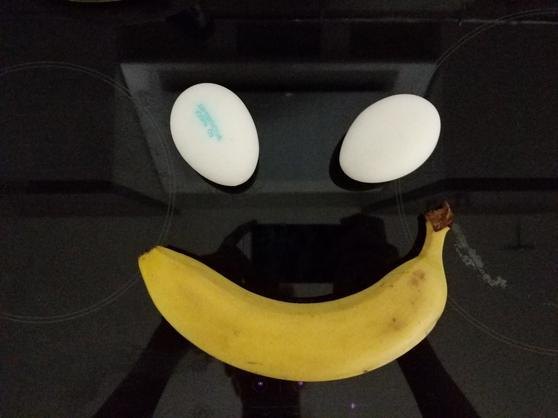banana: (128, 200, 467, 379)
egg: (153, 64, 272, 199), (328, 82, 454, 195)
